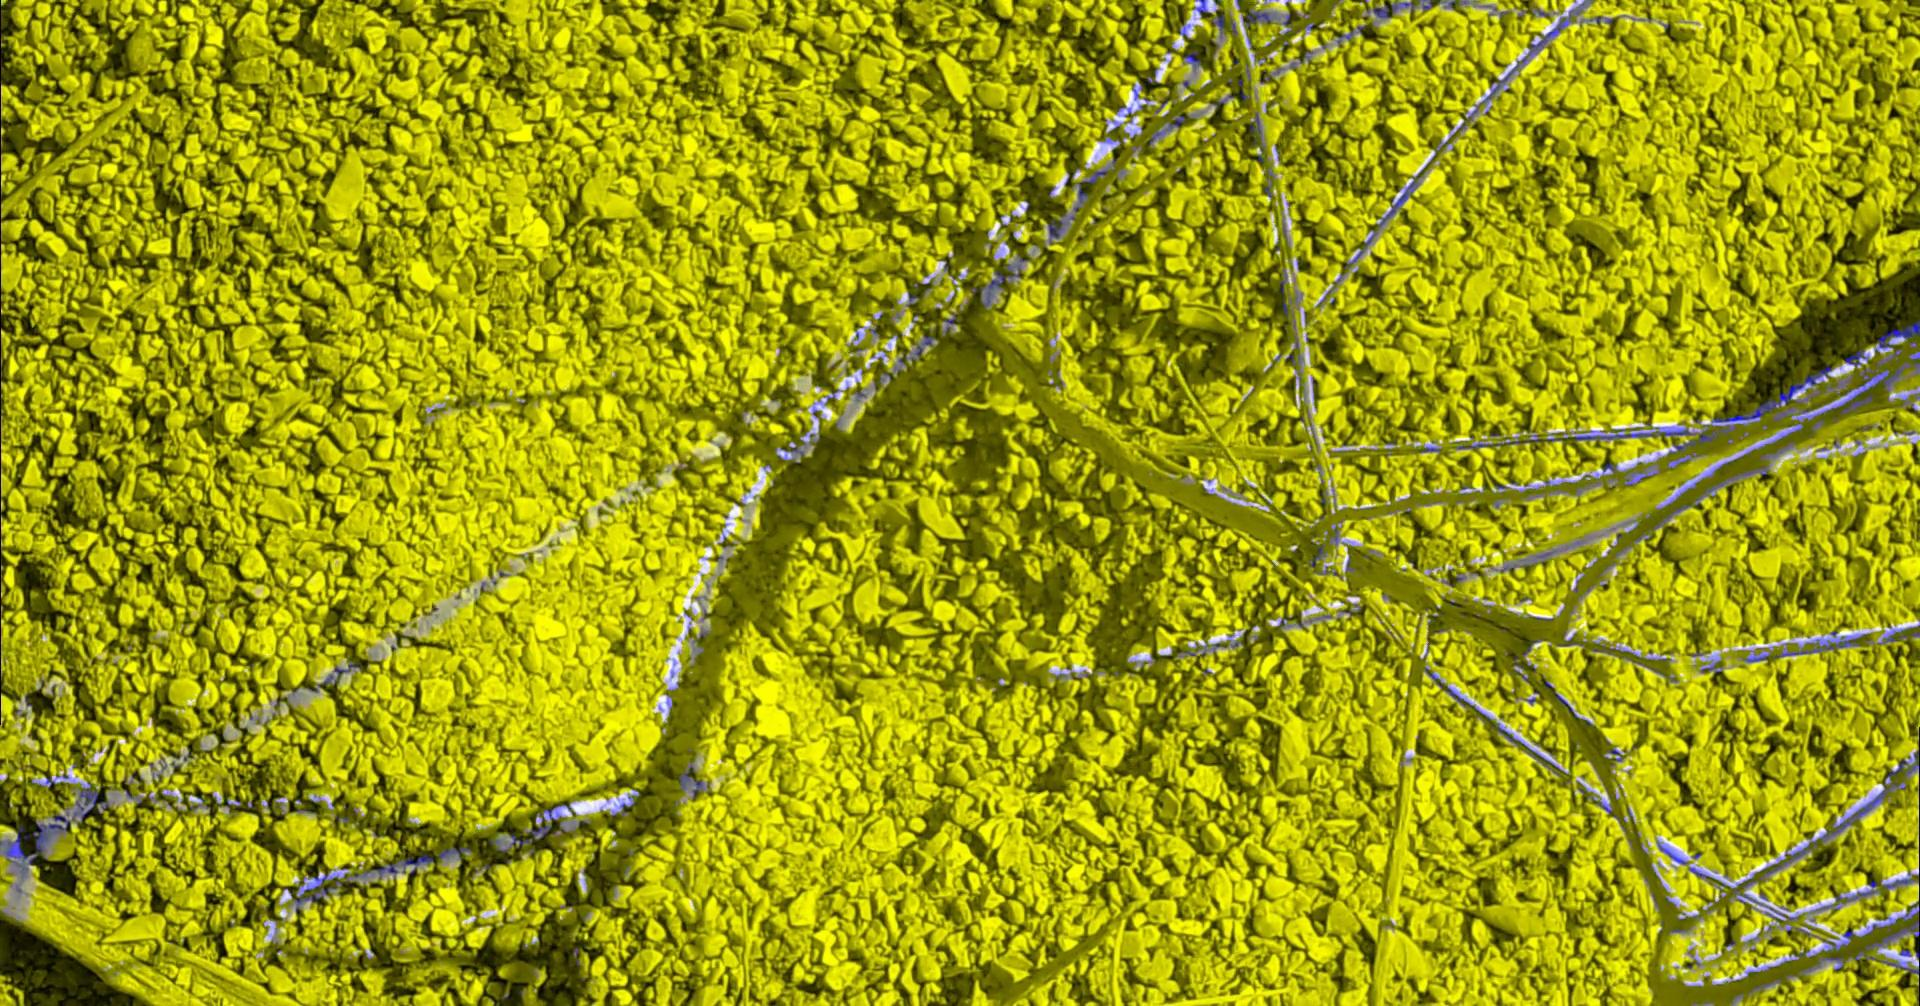ant: (1481, 11, 1570, 103), (1820, 352, 1919, 414), (4, 814, 70, 871), (1491, 723, 1564, 774), (1423, 668, 1491, 720), (1377, 164, 1427, 227), (1743, 634, 1864, 661), (509, 803, 575, 845), (1864, 903, 1919, 949), (971, 263, 1020, 307), (1545, 427, 1690, 441), (295, 874, 342, 912), (363, 854, 433, 879), (1877, 319, 1919, 359), (305, 661, 359, 691), (1831, 880, 1881, 909), (75, 782, 108, 821), (1365, 0, 1432, 17), (678, 761, 709, 796), (898, 335, 935, 363), (1078, 170, 1109, 203), (1343, 234, 1374, 267), (1879, 951, 1919, 974), (1652, 504, 1689, 528), (1820, 930, 1855, 951), (1657, 842, 1686, 864), (1882, 625, 1919, 641), (1882, 871, 1914, 889), (1815, 951, 1843, 969), (1242, 9, 1270, 25), (438, 846, 471, 859), (1765, 907, 1798, 920), (1844, 348, 1865, 367), (1048, 218, 1064, 243), (1308, 544, 1323, 567), (1164, 116, 1189, 130), (1250, 112, 1260, 145), (1183, 50, 1201, 67), (1736, 466, 1768, 475), (1211, 14, 1223, 33)
